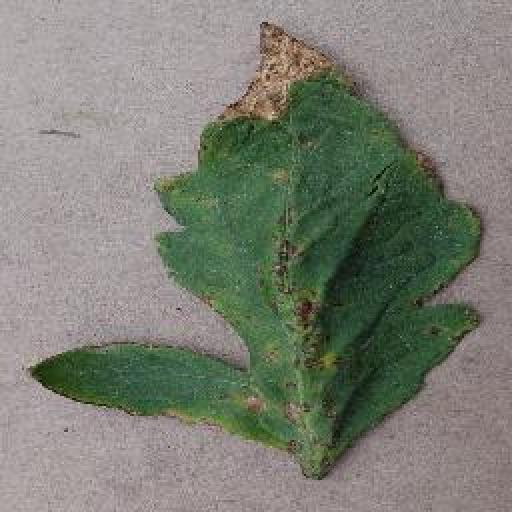Bacterial Spot: (28, 12, 489, 476)
